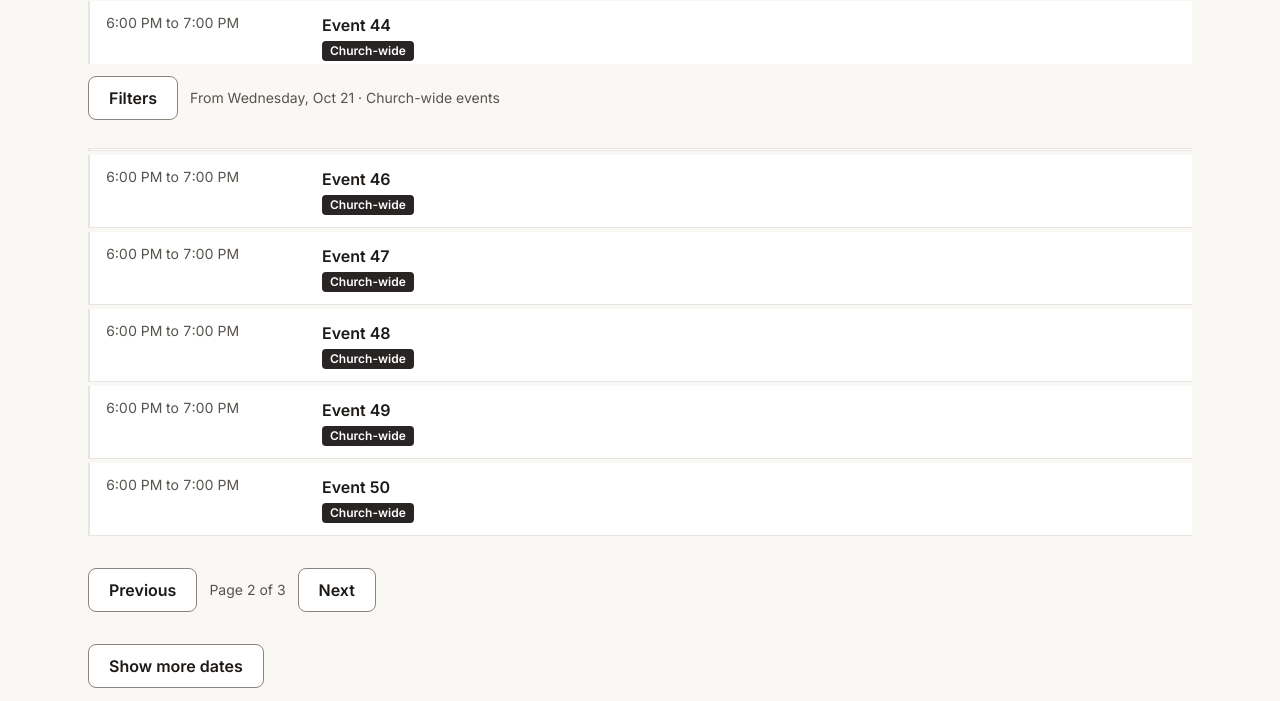
Test case: bounds a busy agenda and preserves a URL page without refetching
The image size is (1280, 701).
(page scrolled)
Expected: the text "Event 1" is not shown
Expected: the text "Event 51" is not shown
Click the button with aria-label "Next events": (337, 590) [298,568,376,612]
(page scrolled)
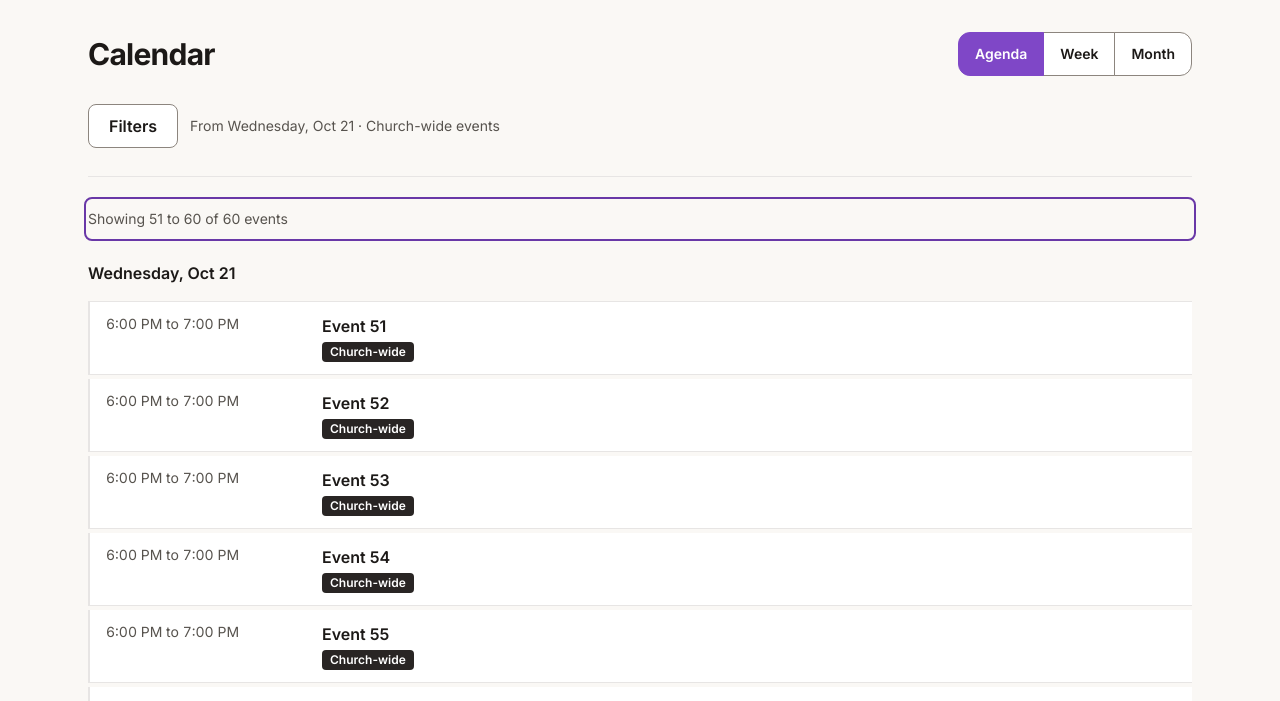
Click the button "Filters": (133, 126) [88,104,178,148]
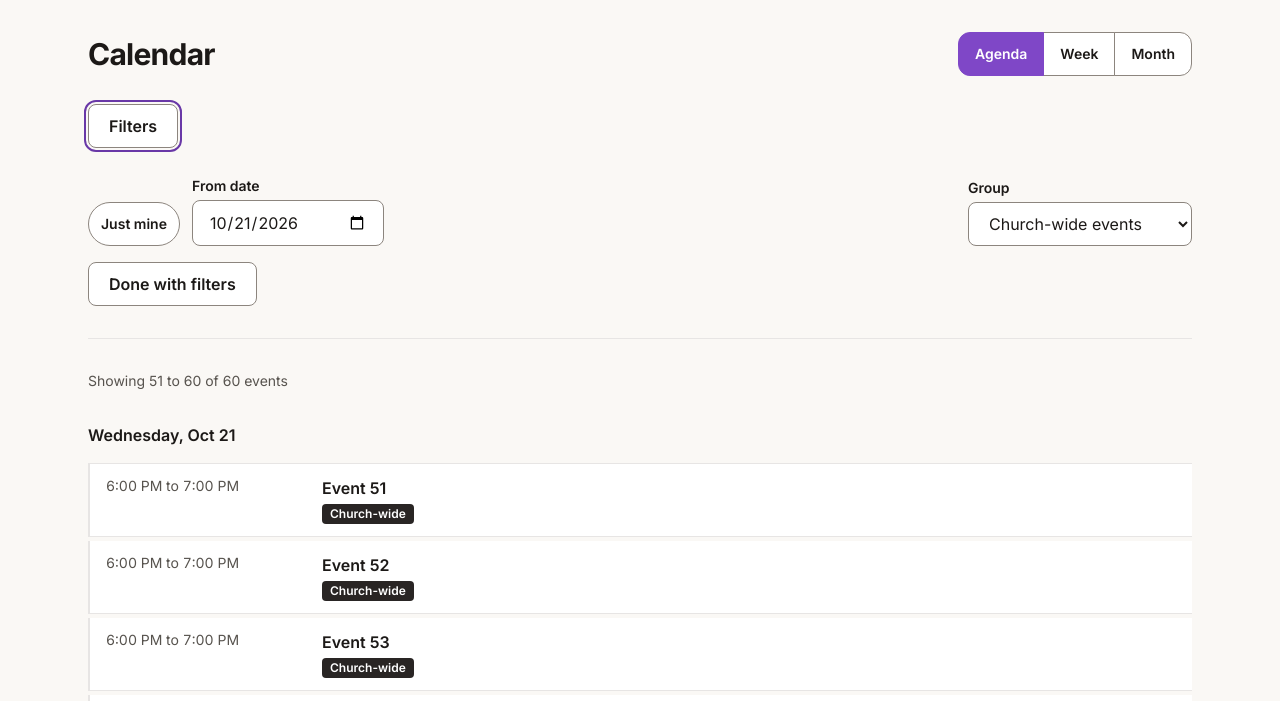
Select "All groups" in the dropdown: (1080, 224) [968,202,1192,246]
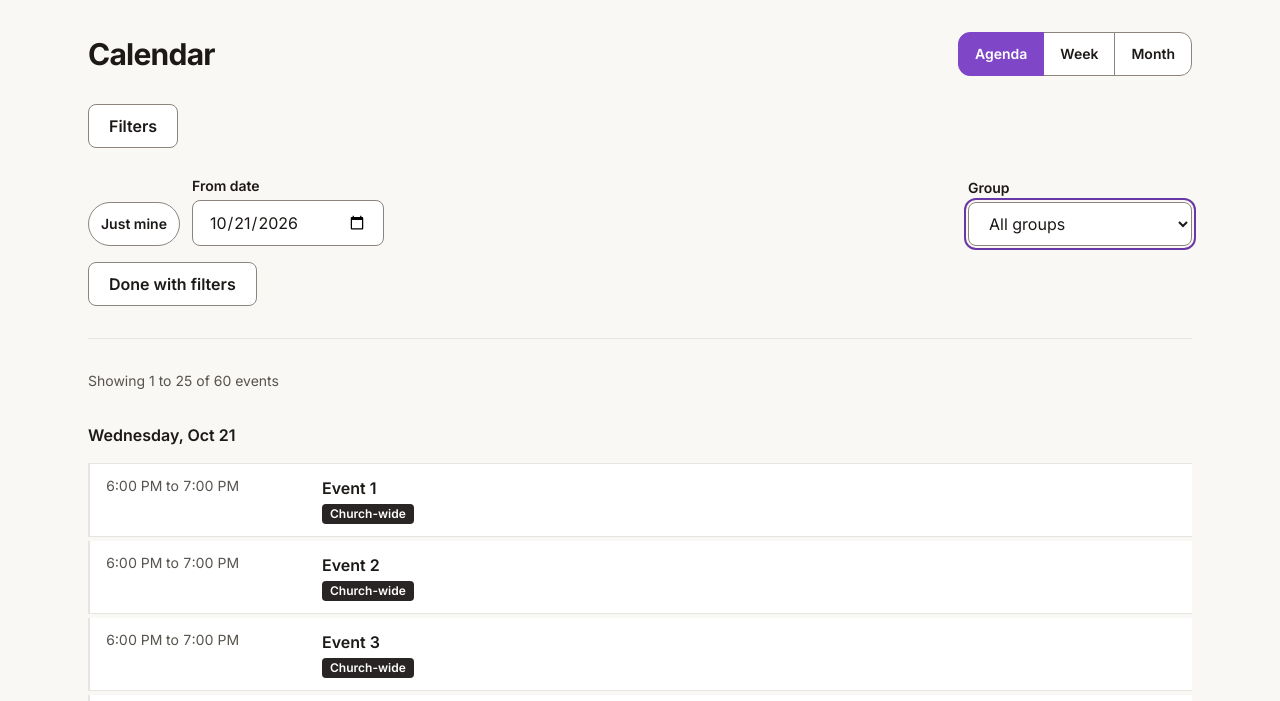
Expected: the text "Event 1" is shown, [322,478,376,498]
